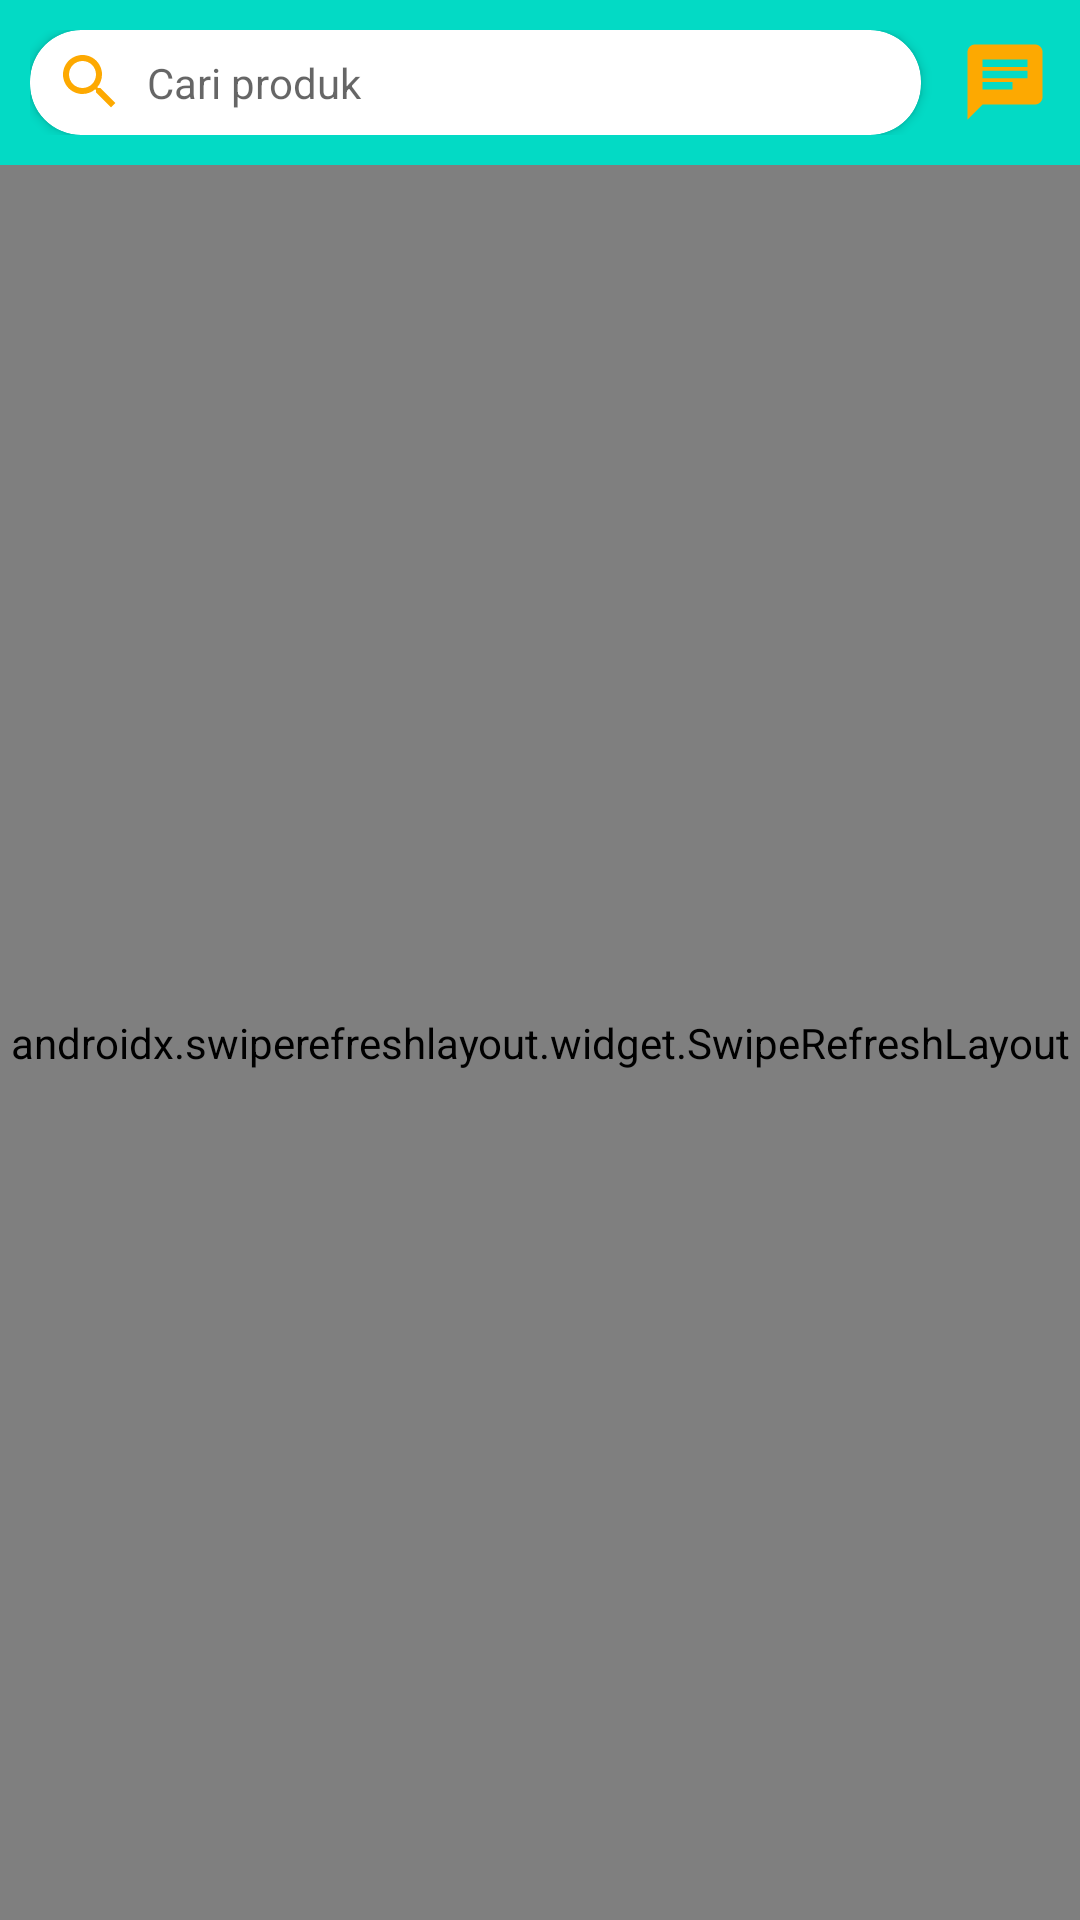

Named icons in this screenshot (1080 × 1920) and their bounding boxes, box=[x1, y1, x2, y2]:
chat: box=[967, 44, 1043, 120]
search: box=[63, 55, 115, 107]
